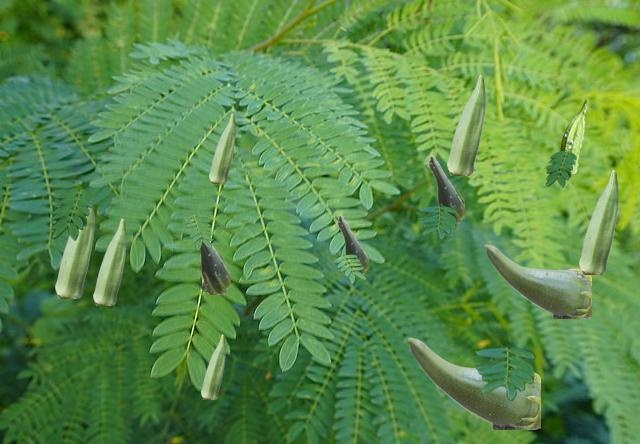okra: (407, 337, 539, 428), (484, 244, 590, 317), (579, 169, 617, 273), (447, 74, 484, 174), (55, 202, 93, 297), (93, 218, 125, 304), (189, 228, 229, 293), (427, 153, 463, 222), (560, 99, 587, 172), (336, 213, 367, 273), (209, 113, 234, 182), (201, 334, 224, 398)
